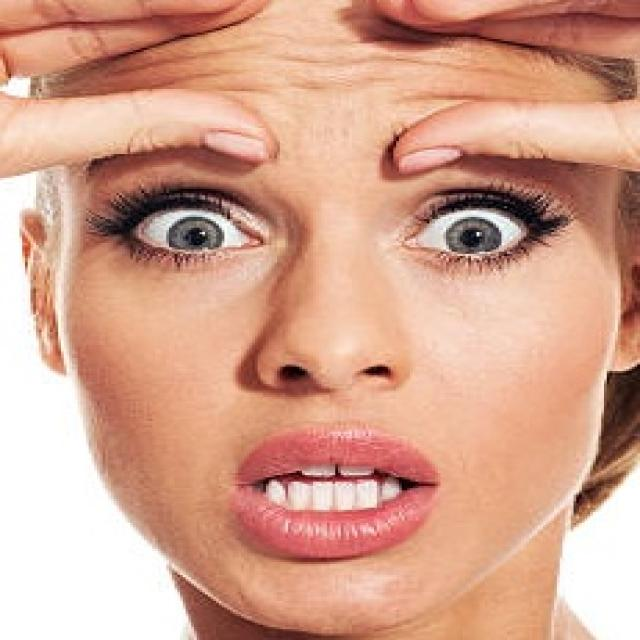Anxiety: (28, 0, 637, 638)
